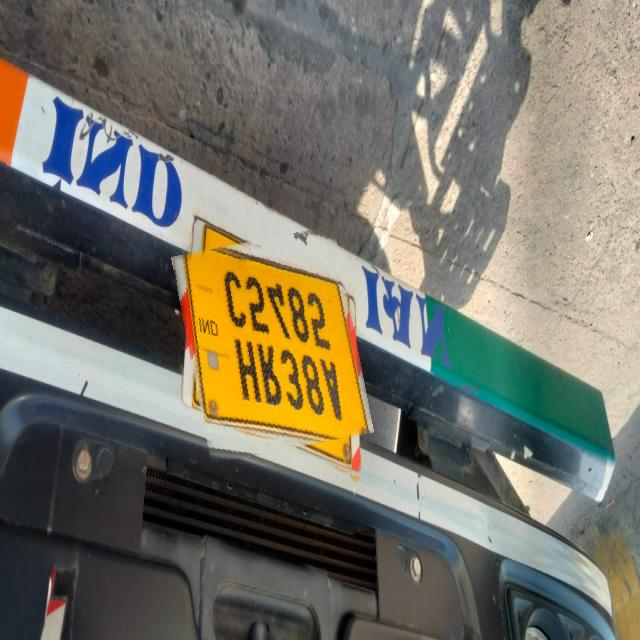License-plate: (181, 232, 365, 457)
